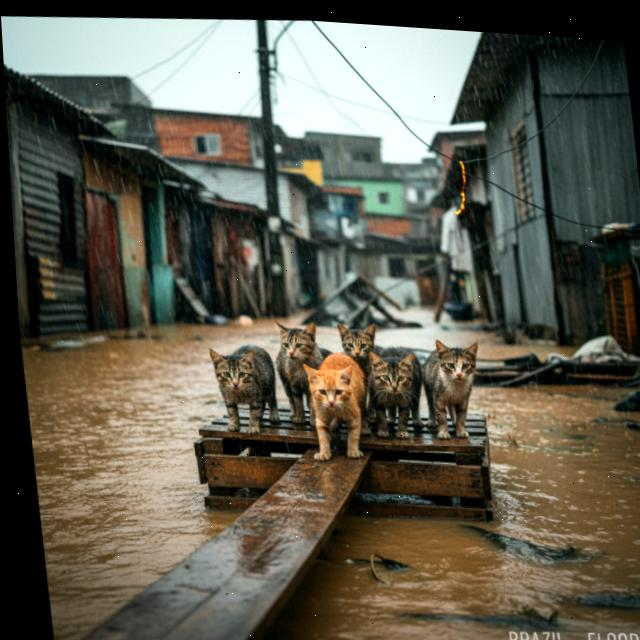cat: (296, 345, 378, 468), (204, 336, 292, 444), (414, 332, 493, 449), (333, 316, 395, 444), (364, 342, 431, 449), (268, 318, 332, 430)
